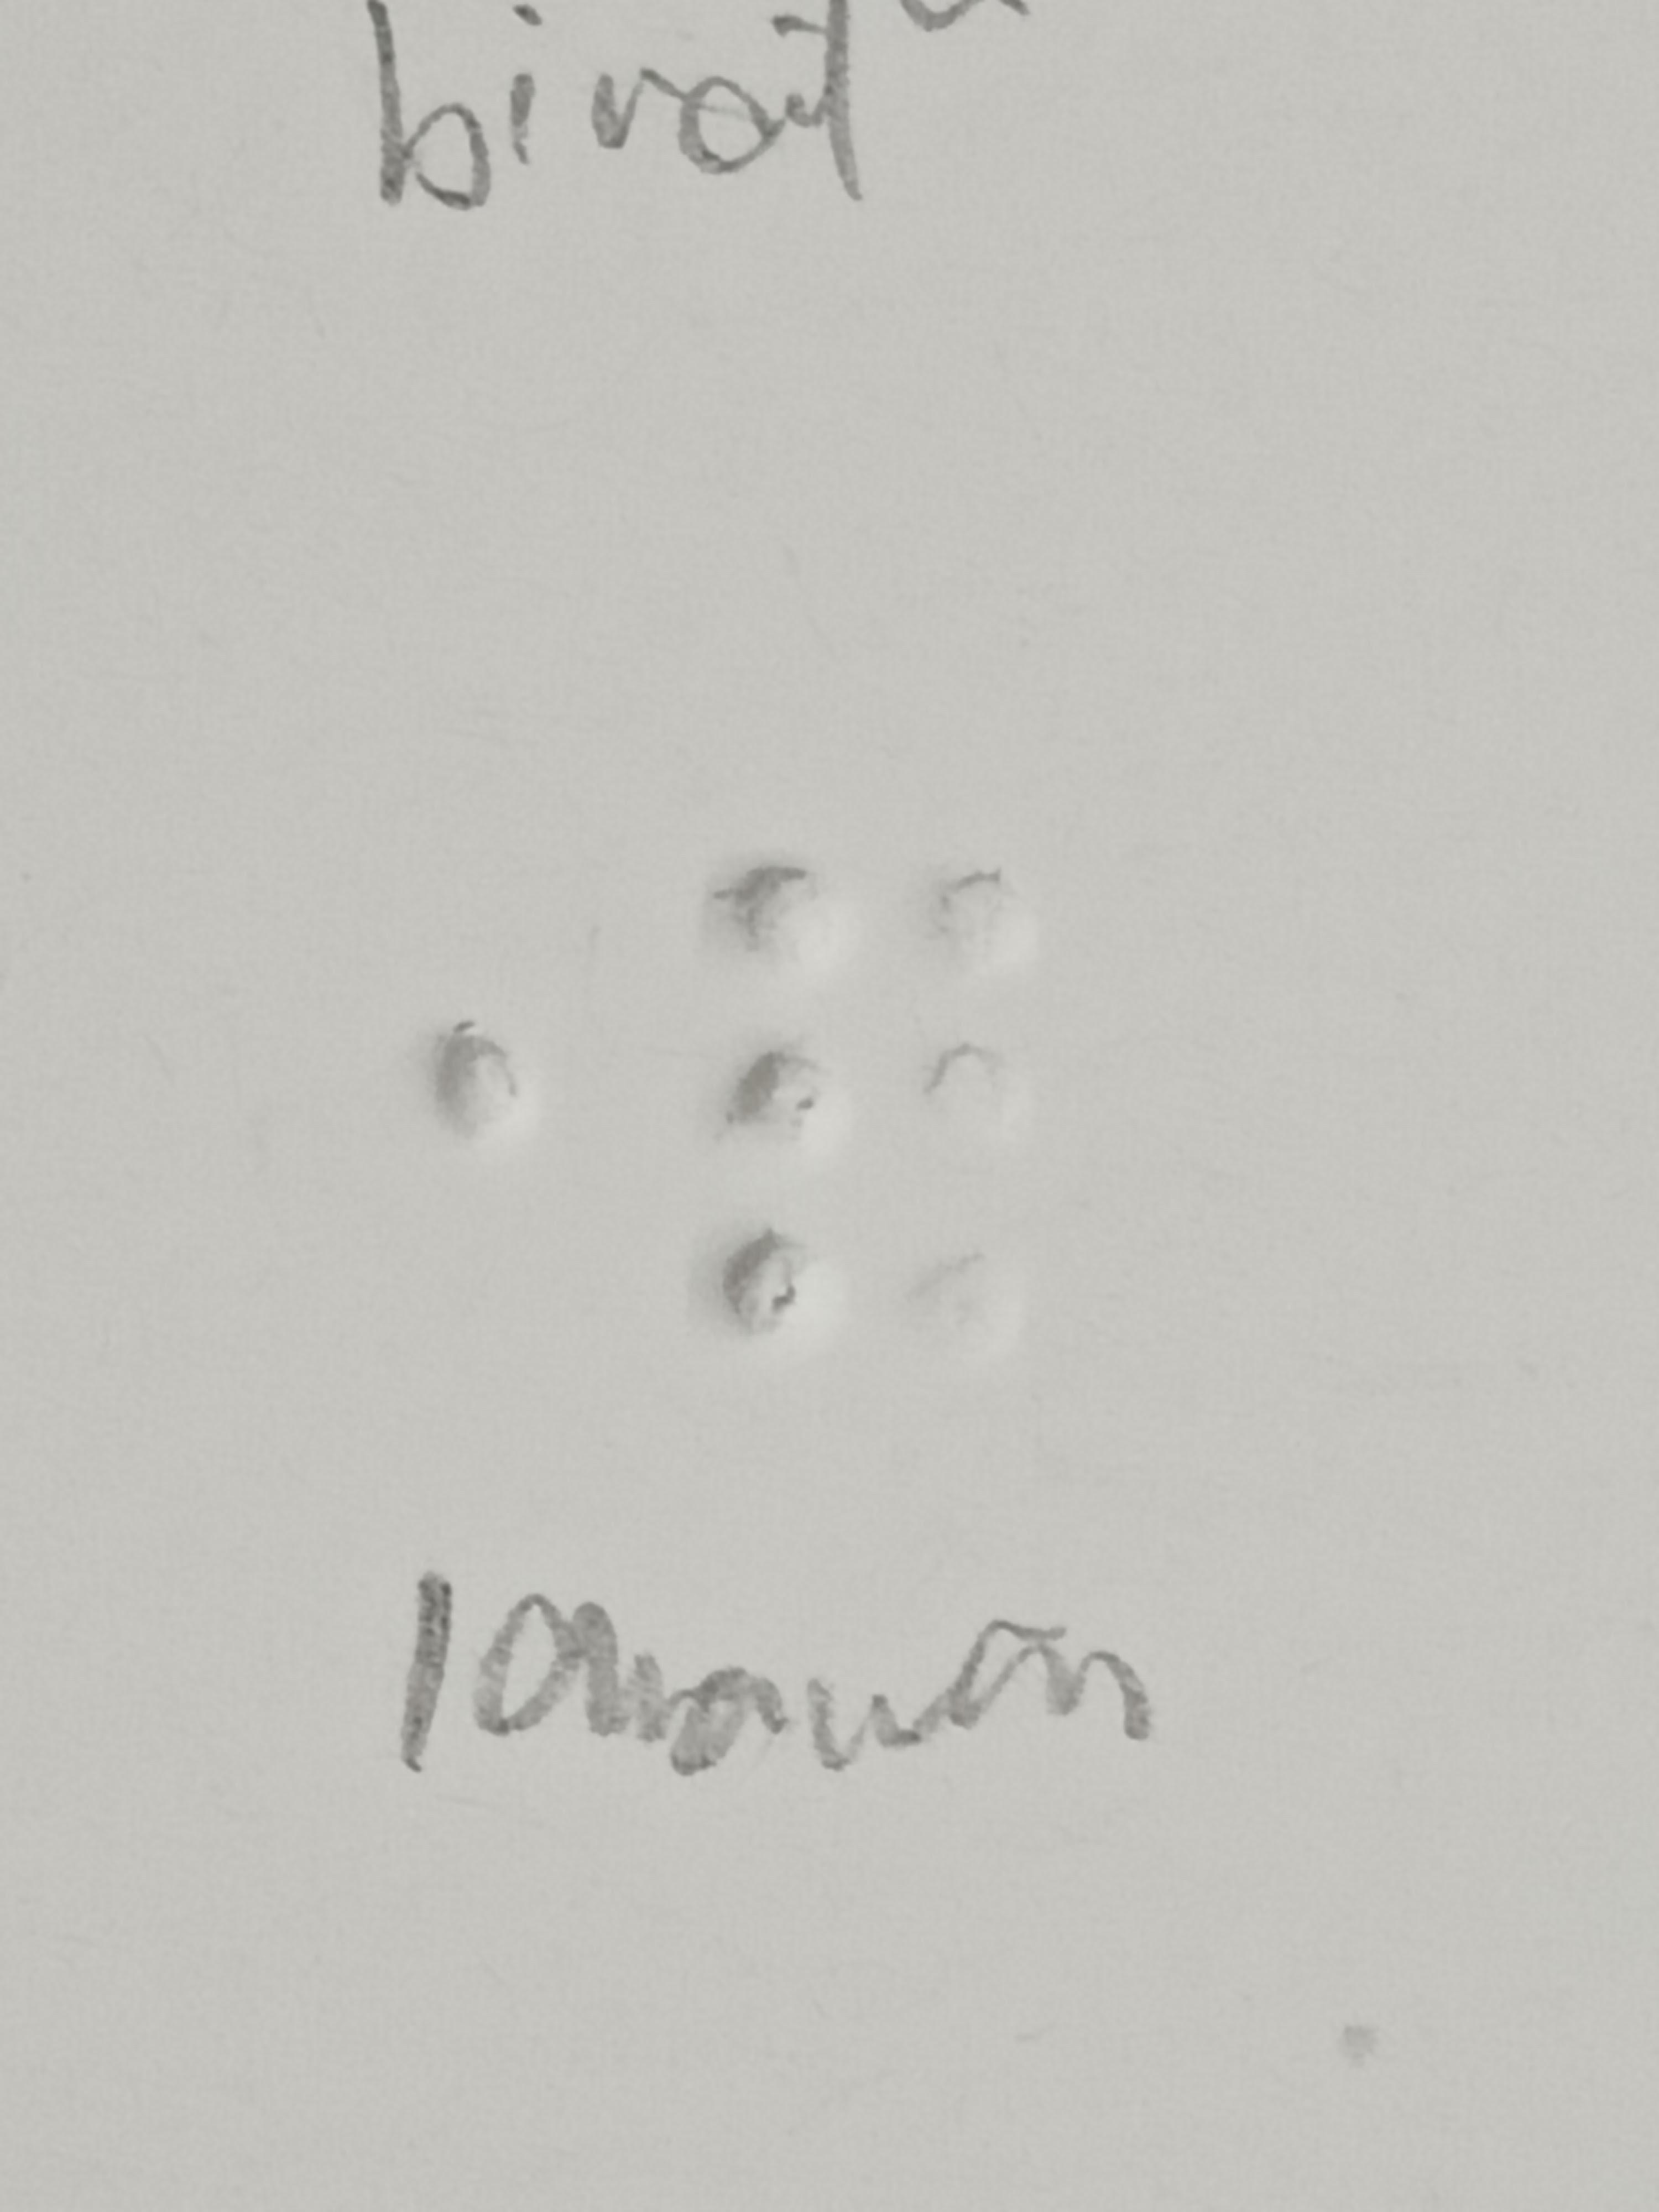dot_5: (185, 862, 526, 1371)
two_cell_alphabet_larawan: (720, 859, 1063, 1366)
